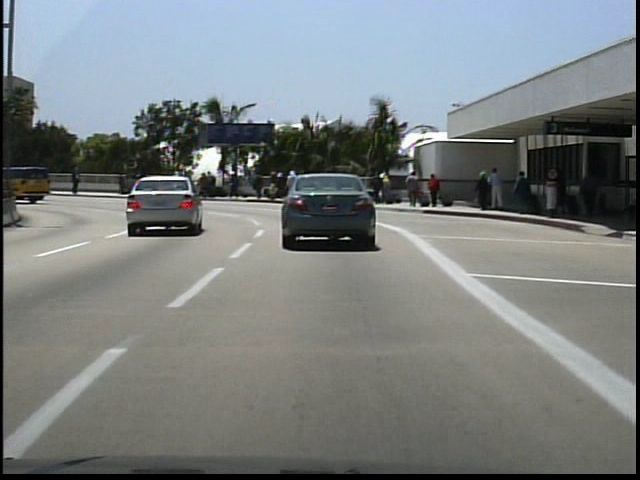person: (581, 162, 606, 219), (486, 164, 508, 217), (513, 166, 536, 216), (556, 165, 573, 217), (477, 167, 496, 212), (405, 170, 424, 210), (427, 168, 446, 208), (70, 164, 86, 198), (372, 171, 387, 207), (137, 168, 154, 196), (116, 171, 132, 196)
